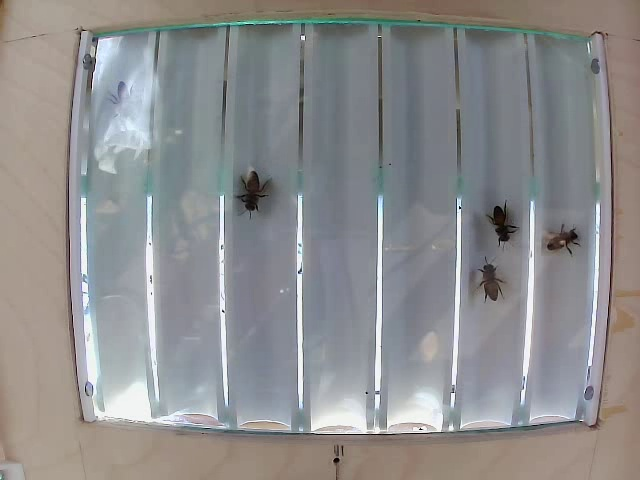bee: (480, 194, 519, 254), (236, 166, 286, 212), (480, 256, 511, 309), (546, 233, 582, 264)
